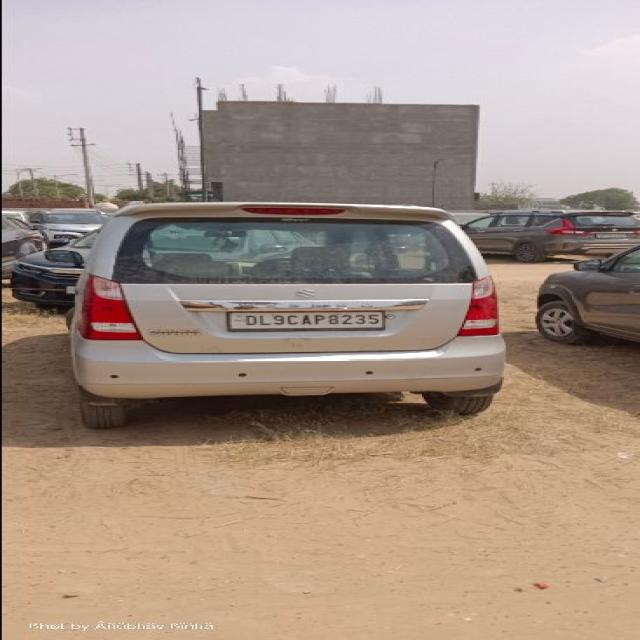license_plate: (225, 310, 385, 331)
